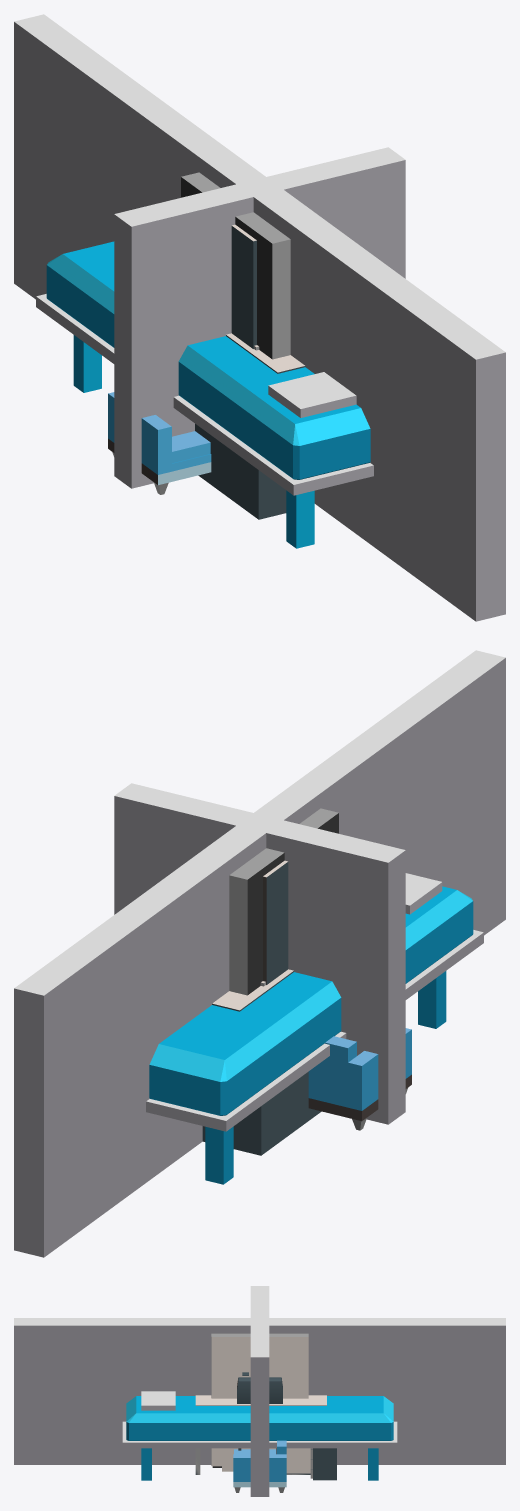
The model's file is Map_Asset.fbx.
3 views of the same model, one above another, from view 1: azimuth 30°, elevation 25°; view 2: azimuth 150°, elevation 25°; view 3: azimuth 270°, elevation 25° (orthographic). The views are drawn at different scales.
Parts seen in each view (by area): view 1: Tuong_Doc, Tuong_Ngang, pCube20, tuaoquan, sofa, tubep, tulanh, banmaytinh; view 2: Tuong_Doc, Tuong_Ngang, pCube20, tuaoquan, sofa, tubep, tulanh, banmaytinh; view 3: Tuong_Doc, pCube20, tuaoquan, Tuong_Ngang, banmaytinh, sofa, tubep, ghe, bonruamat.
Boxes of the visible parts, x1,y1,x2,y2 form: Tuong_Doc: [14, 14, 505, 621]; Tuong_Ngang: [114, 147, 405, 488]; pCube20: [36, 241, 373, 548]; tuaoquan: [181, 172, 290, 359]; sofa: [108, 392, 211, 494]; tubep: [195, 424, 286, 519]; tulanh: [231, 224, 256, 348]; banmaytinh: [226, 333, 305, 373]; Tuong_Doc: [14, 650, 505, 1257]; Tuong_Ngang: [114, 783, 405, 1124]; pCube20: [146, 873, 483, 1184]; tuaoquan: [229, 808, 338, 995]; sofa: [308, 1028, 411, 1130]; tubep: [202, 1071, 321, 1155]; tulanh: [263, 860, 288, 984]; banmaytinh: [212, 969, 293, 1011]; Tuong_Doc: [14, 1318, 505, 1464]; pCube20: [122, 1391, 397, 1480]; tuaoquan: [211, 1333, 308, 1467]; Tuong_Ngang: [250, 1286, 269, 1496]; banmaytinh: [195, 1395, 326, 1474]; sofa: [233, 1440, 286, 1492]; tubep: [310, 1448, 336, 1480]; ghe: [237, 1377, 282, 1403]; bonruamat: [222, 1448, 276, 1471].
Size of what is drawn, in the model's own units: 9.63 by 9.21 by 28.09.
